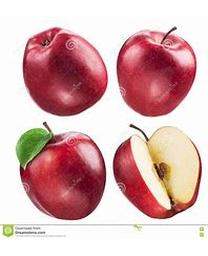apple: (16, 121, 105, 221), (112, 124, 202, 218), (22, 26, 107, 115), (116, 26, 196, 115)
